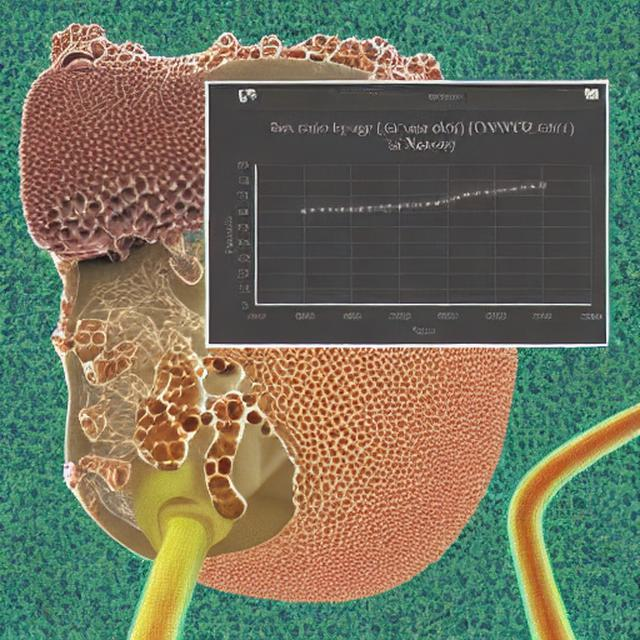Graph: (212, 109, 606, 344)
